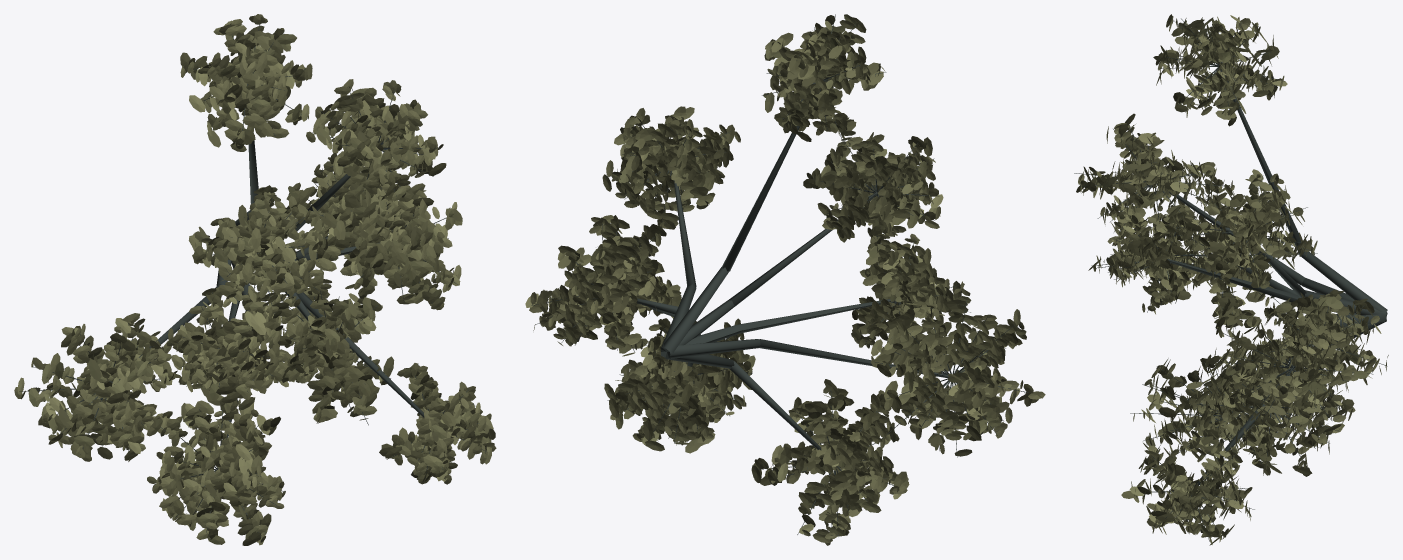
File: tree_m17.obj
The picture shows the model from 3 angles, left to right: view 1: azimuth 30°, elevation 25°; view 2: azimuth 150°, elevation 25°; view 3: azimuth 270°, elevation 25°; orthographic projection. The views are drawn at different scales.
Size of the model in its own units: 1.58 by 1.72 by 1.03.
1 material, 1 textured.
